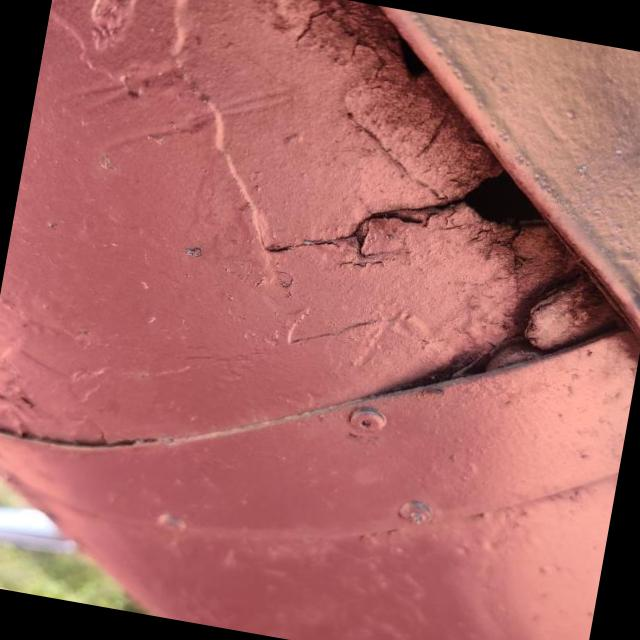Crack: (356, 174, 577, 306)
